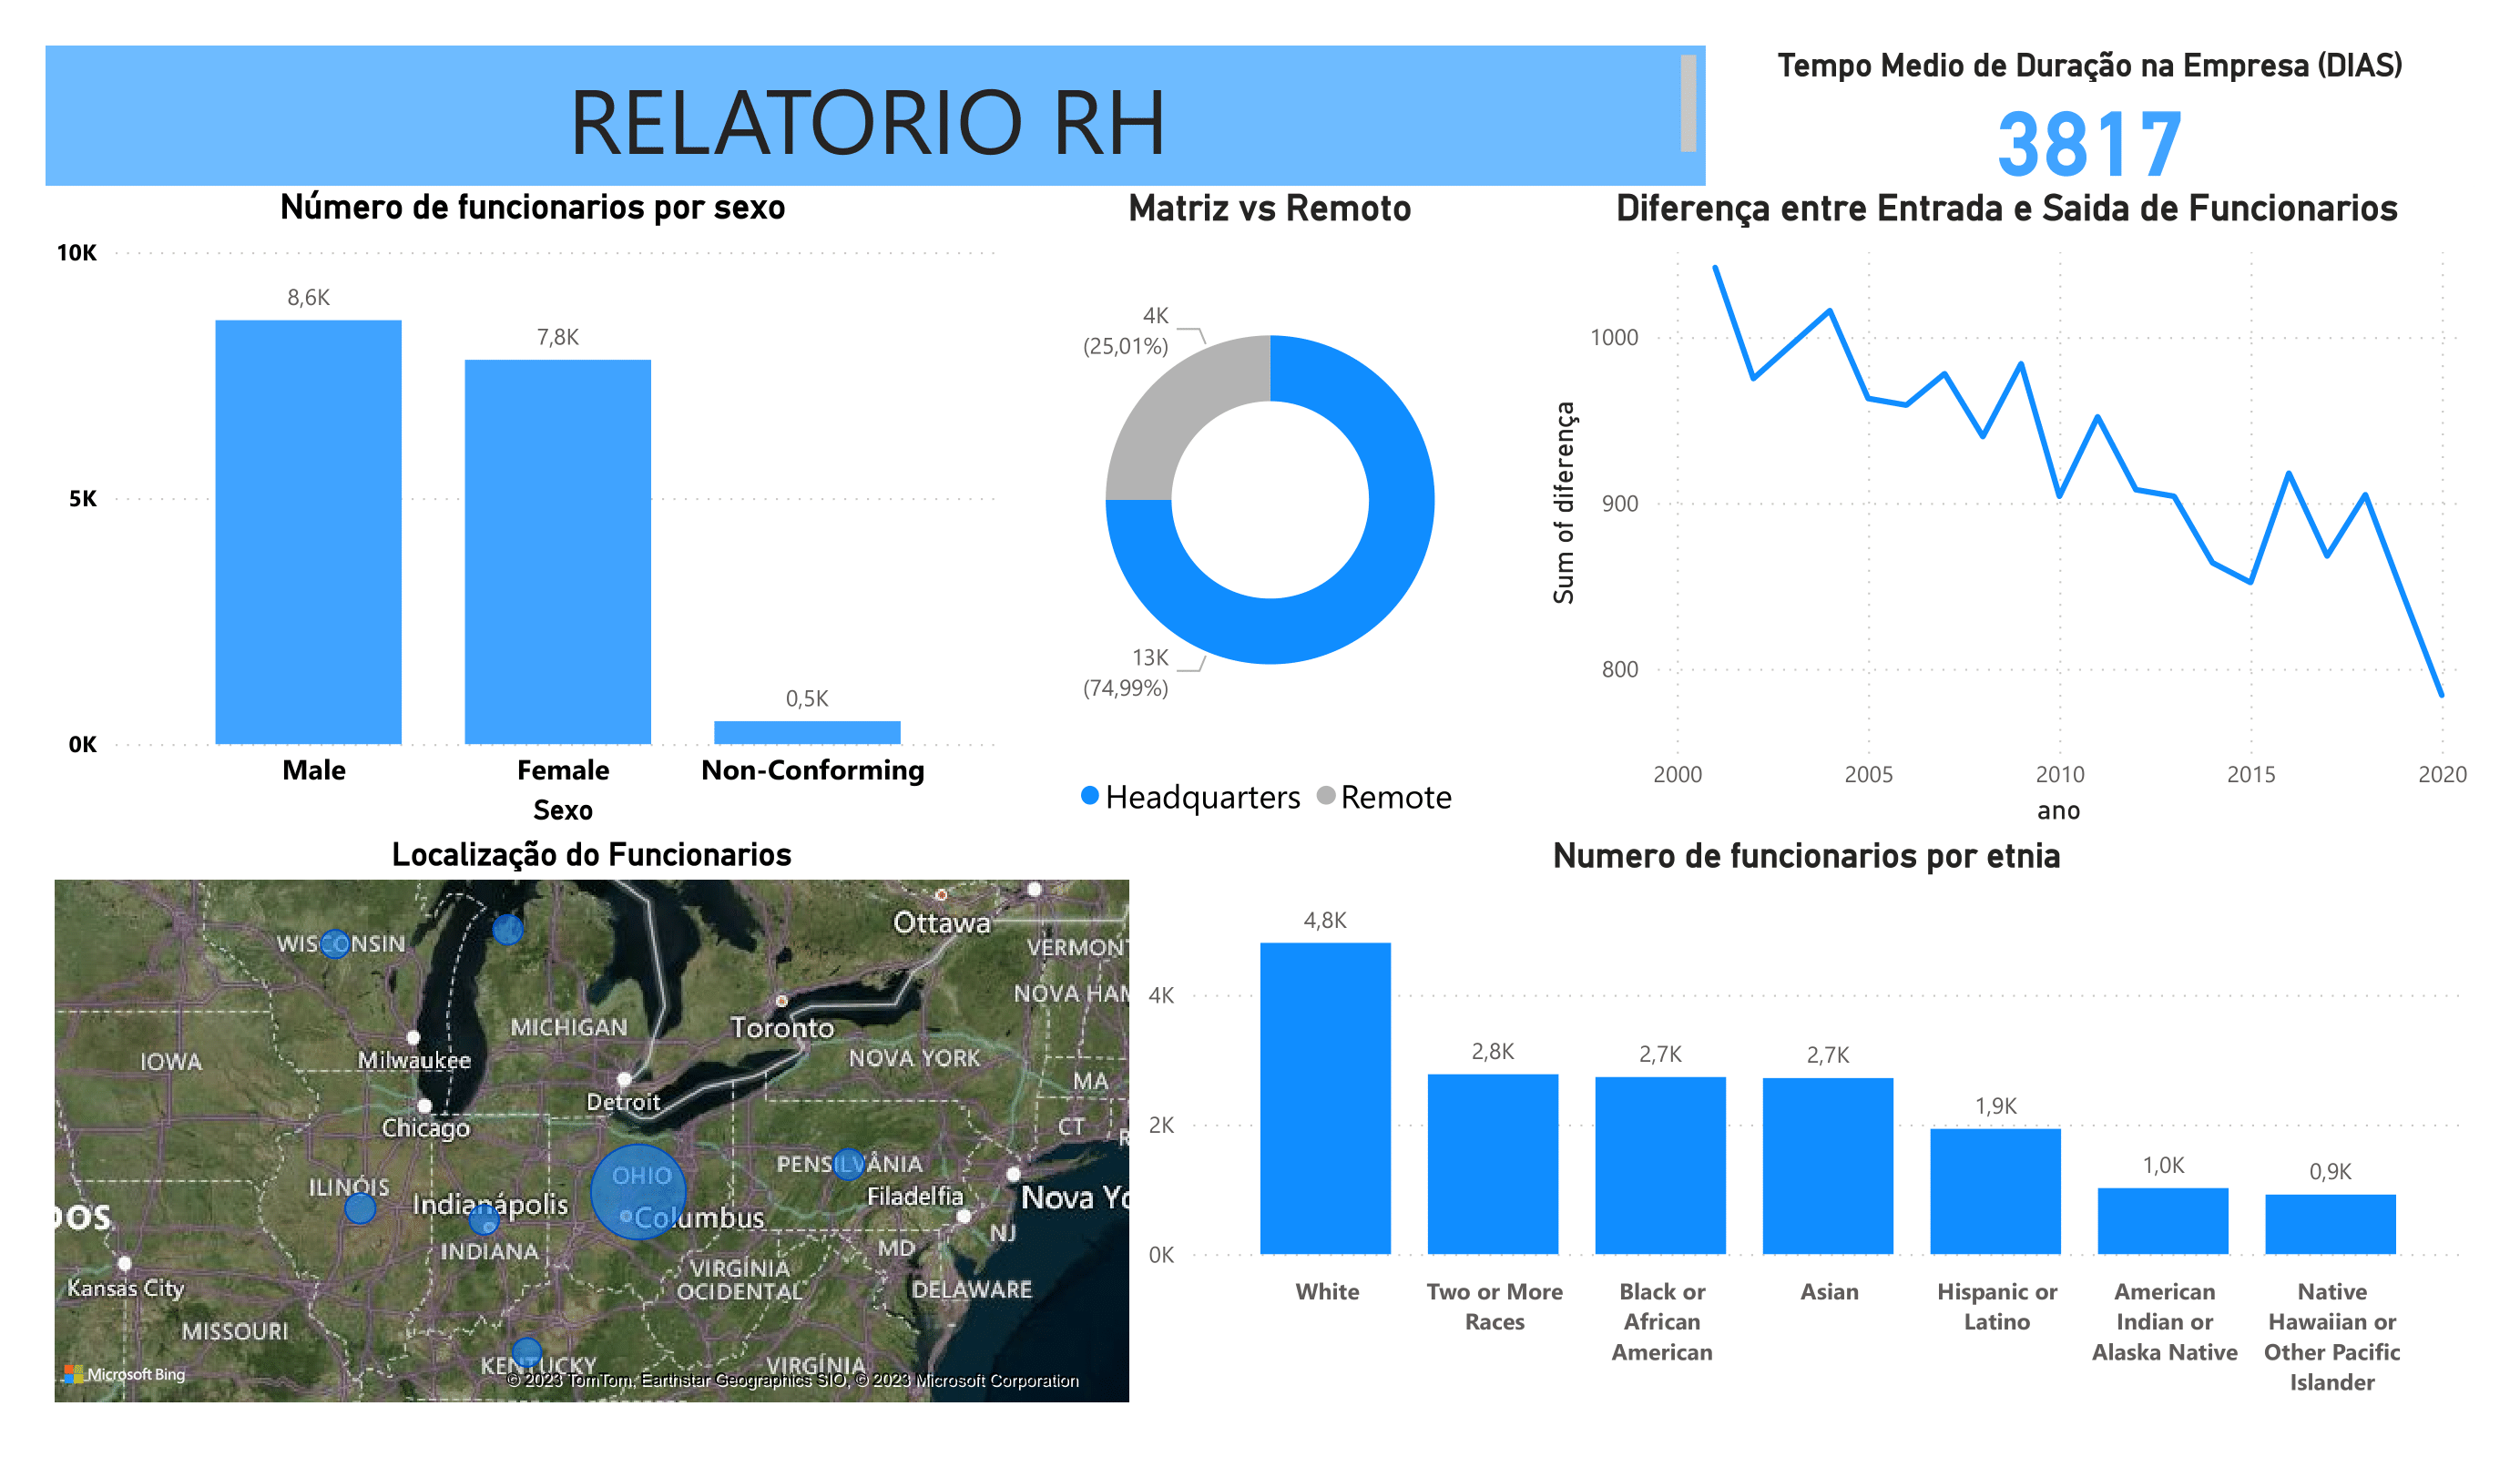

The dashboard page shown, as its layout file describes it:
{"tool":"powerbi","page":{"name":"Page 1","canvas":[1280,720],"ordinal":0},"visuals":[{"type":"card","title":"Tempo Medio de Duração na Empresa (DIAS)","fields":{"Values":["Sum(5. Tempo_medio_empregado.media_dias)"]},"box":[874.3,0,406.2,74],"z":0},{"type":"textbox","box":[25,416,281,280],"z":1000},{"type":"textbox","box":[0,0,874.7,74],"z":2000},{"type":"columnChart","title":"Número de funcionarios por sexo","fields":{"Category":["1.Dist_Genero.gender"],"Y":["Sum(1.Dist_Genero.value_count)"]},"box":[0,74,513.8,341.7],"z":3000},{"type":"donutChart","title":"Matriz vs Remoto","fields":{"Y":["Sum(4. Local_Remoto.value_count)"],"Category":["4. Local_Remoto.location"]},"box":[504.4,74,282.5,341.7],"z":4000},{"type":"map","title":"Localização do Funcionarios","fields":{"Size":["Sum(8. Count_cid_estado.count)"],"Category":["8. Count_cid_estado.location_state"]},"box":[0,415.6,575.7,304],"z":5000},{"type":"clusteredColumnChart","title":"Numero de funcionarios por etnia","fields":{"Category":["2. Dist_Etnia.race"],"Y":["Sum(2. Dist_Etnia.value_count)"]},"box":[575.7,415.6,704.8,304],"z":6000},{"type":"lineChart","title":"Diferença entre Entrada e Saida de Funcionarios","fields":{"Category":["9. Entrada_Saida.ano"],"Y":["Sum(9. Entrada_Saida.diferença)"]},"box":[786.9,74,493.7,341.7],"z":7000}]}

Visuals, with their boxes on the page's 1280x720 design canvas (x1, y1, x2, y2). These are canvas units, not pixel positions in the 2520x1457 screenshot, which may show the page scaled, cropped or inside an application window:
"Tempo Medio de Duração na Empresa (DIAS)" card: select_region(874, 0, 1280, 74)
textbox: select_region(25, 416, 306, 696)
textbox: select_region(0, 0, 875, 74)
"Número de funcionarios por sexo" columnChart: select_region(0, 74, 514, 416)
"Matriz vs Remoto" donutChart: select_region(504, 74, 787, 416)
"Localização do Funcionarios" map: select_region(0, 416, 576, 720)
"Numero de funcionarios por etnia" clusteredColumnChart: select_region(576, 416, 1280, 720)
"Diferença entre Entrada e Saida de Funcionarios" lineChart: select_region(787, 74, 1281, 416)
